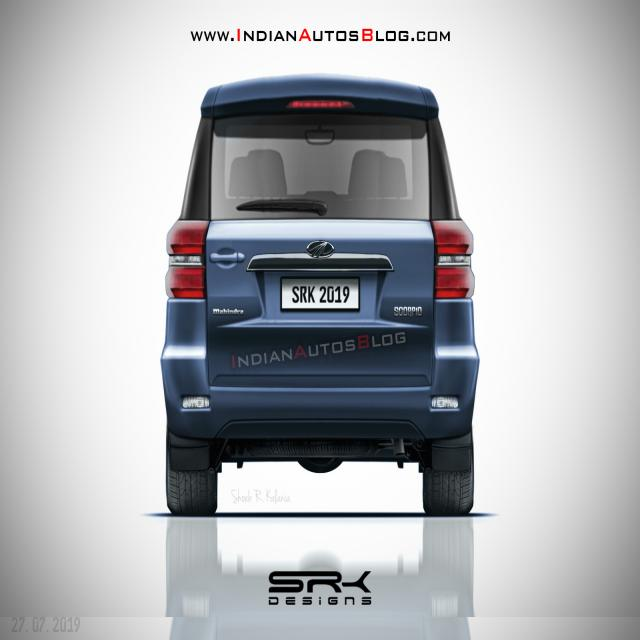Number-Plate: (283, 276, 360, 310)
